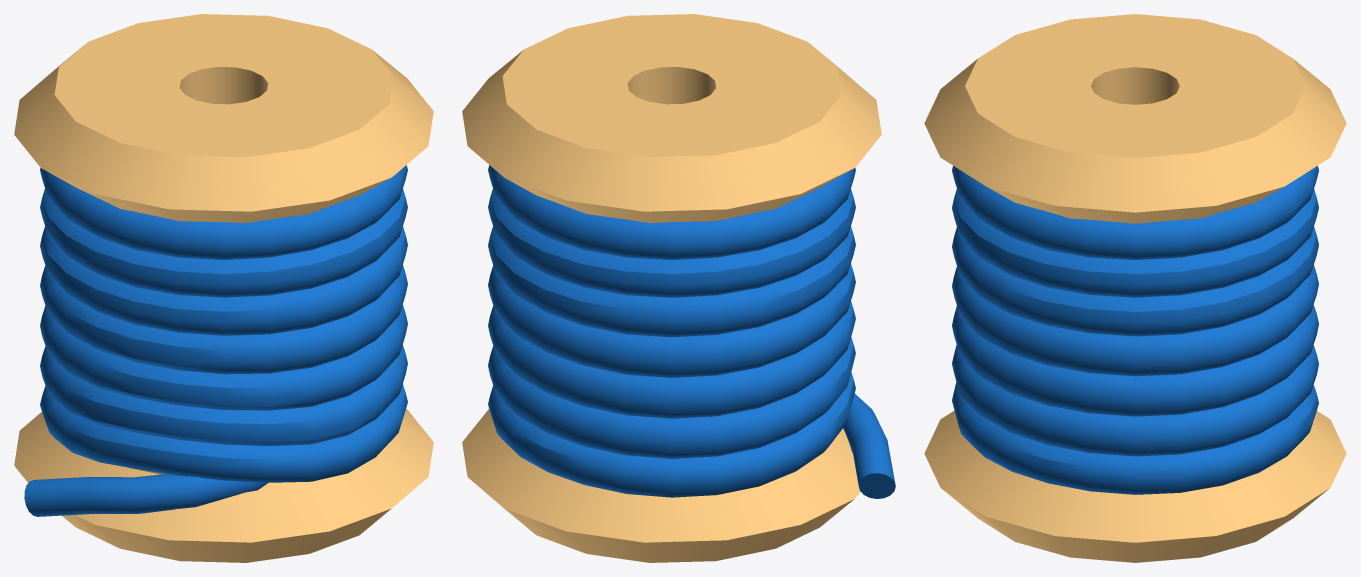
Rendered from thread.gltf.
3 views of the same model, side by side, from view 1: azimuth 30°, elevation 25°; view 2: azimuth 150°, elevation 25°; view 3: azimuth 270°, elevation 25° (orthographic).
Parts seen in each view (by area): view 1: Torus; view 2: Torus; view 3: Torus.
Boxes of the visible parts, x1,y1,x2,y2 form: Torus: (14,14,433,562); Torus: (462,14,895,562); Torus: (924,14,1346,562).
Size of the model in its own units: 1.6 by 1.57 by 1.49.
1 material, 1 textured.
